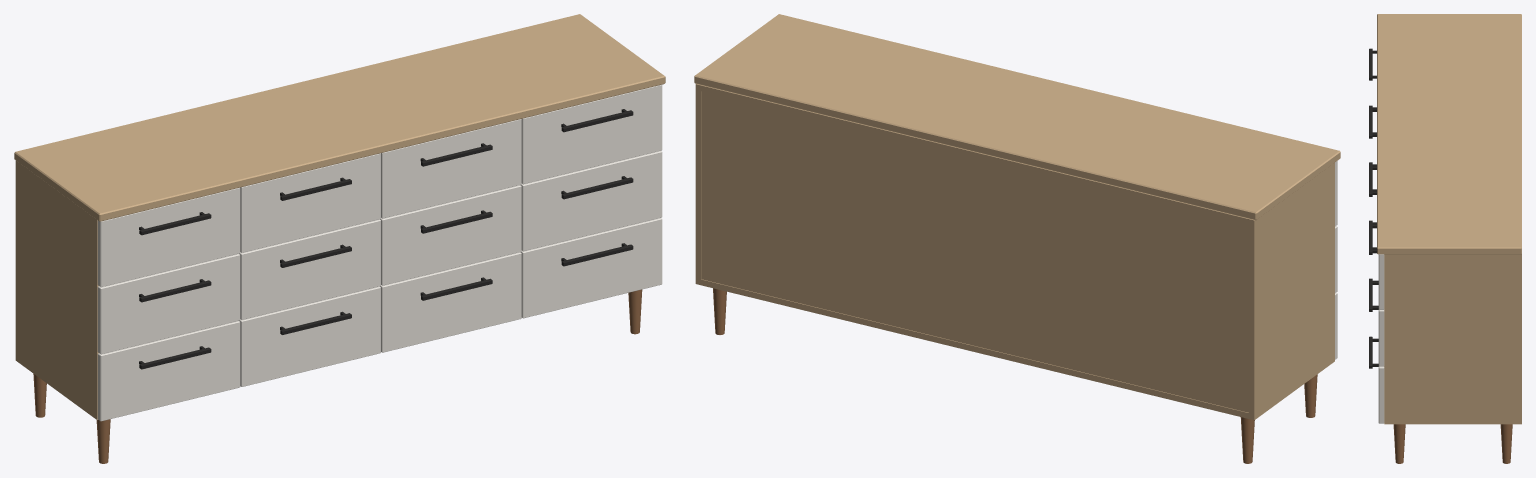
The model's file is 27_komoda_180_4x3.glb.
3 renders of one model, left to right at view 1: azimuth 30°, elevation 25°; view 2: azimuth 150°, elevation 25°; view 3: azimuth 270°, elevation 25°, orthographic. The views are drawn at different scales.
Parts seen in each view (by area): view 1: Wierzch, Korpus, Front_szuflada_3, Front_szuflada_2, Front_szuflada_12, Front_szuflada_11, Front_szuflada_1, Front_szuflada_5, Front_szuflada_9, Front_szuflada_6, Front_szuflada_8, Front_szuflada_10 (+4 smaller); view 2: Korpus, Wierzch, Nogi; view 3: Wierzch, Korpus, Uchwyty, Nogi, Front_szuflada_12, Front_szuflada_11, Front_szuflada_10.
Boxes of the visible parts, x1,y1,x2,y2 form: Wierzch: [14, 14, 665, 221]; Korpus: [15, 160, 98, 419]; Front_szuflada_3: [97, 321, 240, 421]; Front_szuflada_2: [97, 253, 240, 354]; Front_szuflada_12: [520, 218, 662, 318]; Front_szuflada_11: [520, 151, 662, 251]; Front_szuflada_1: [97, 187, 240, 287]; Front_szuflada_5: [239, 219, 380, 319]; Front_szuflada_9: [380, 252, 521, 352]; Front_szuflada_6: [239, 286, 380, 386]; Front_szuflada_8: [380, 185, 521, 285]; Front_szuflada_10: [521, 84, 662, 184]; Korpus: [695, 84, 1334, 420]; Wierzch: [694, 14, 1340, 220]; Nogi: [713, 288, 1317, 463]; Wierzch: [1377, 14, 1521, 254]; Korpus: [1384, 254, 1521, 424]; Uchwyty: [1369, 48, 1378, 368]; Nogi: [1393, 424, 1512, 463]; Front_szuflada_12: [1378, 366, 1384, 423]; Front_szuflada_11: [1378, 310, 1384, 366]; Front_szuflada_10: [1378, 254, 1384, 309].
Bounding box in the file's own units: 1.81 × 0.8 × 0.5.
